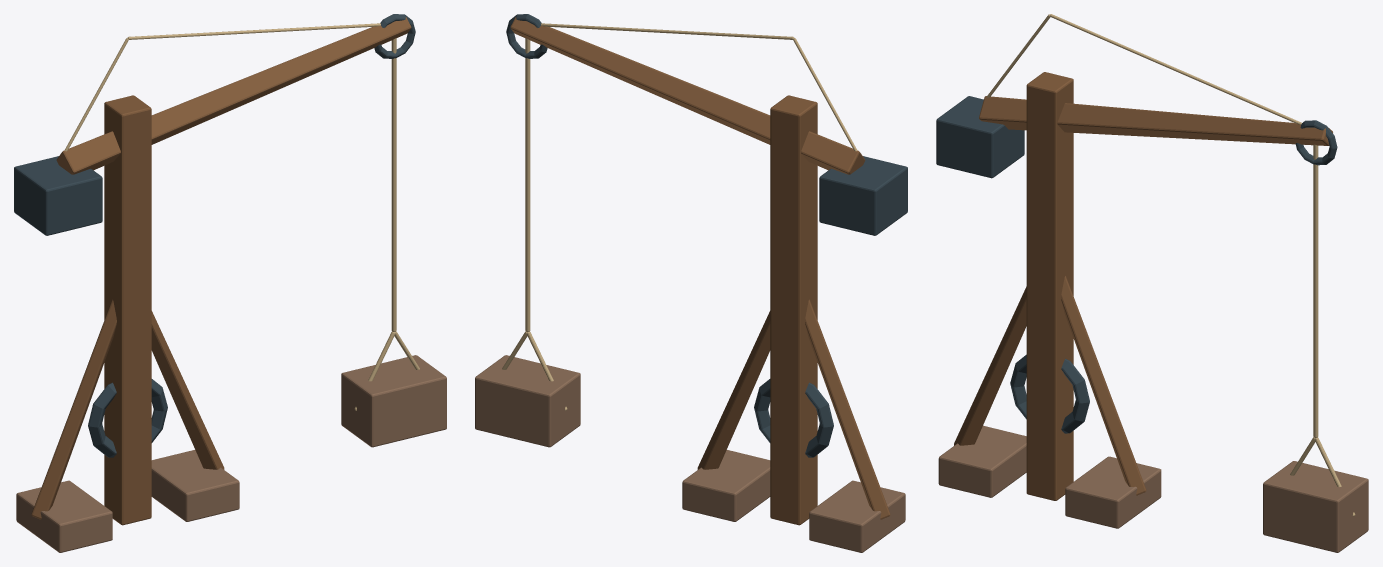
The model's file is quarry_crane.glb.
3 views of the same model, side by side, from view 1: azimuth 30°, elevation 25°; view 2: azimuth 150°, elevation 25°; view 3: azimuth 330°, elevation 25° (orthographic).
Parts seen in each view (by area): view 1: Mast, StoneFoot.001, Pulley, Cable; view 2: Mast, StoneFoot.001, Pulley, Cable; view 3: Mast, StoneFoot.001, Pulley, Cable.
Part boxes in pixels (left/top/right/bottom): Mast: left=31, top=17, right=411, bottom=525; StoneFoot.001: left=16, top=355, right=446, bottom=552; Pulley: left=14, top=14, right=415, bottom=457; Cable: left=64, top=23, right=419, bottom=410; Mast: left=510, top=17, right=890, bottom=525; StoneFoot.001: left=475, top=355, right=905, bottom=552; Pulley: left=506, top=14, right=907, bottom=457; Cable: left=502, top=23, right=857, bottom=410; Mast: left=954, top=72, right=1332, bottom=500; StoneFoot.001: left=938, top=425, right=1368, bottom=552; Pulley: left=936, top=96, right=1337, bottom=433; Cable: left=987, top=14, right=1355, bottom=516.
Bounding box in the file's own units: 6.37 × 7.22 × 1.2.
